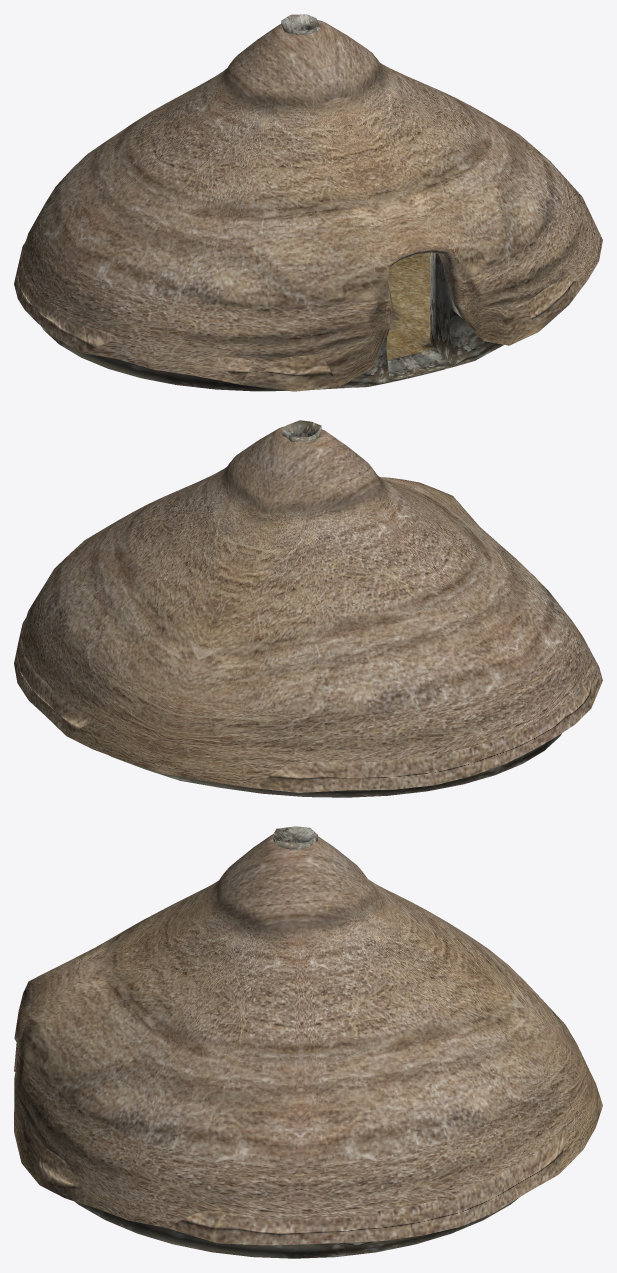
File: OldBuilding5.fbx
3 views of the same model, one above another, from view 1: azimuth 30°, elevation 25°; view 2: azimuth 150°, elevation 25°; view 3: azimuth 270°, elevation 25° (orthographic). The views are drawn at different scales.
Visible parts, largest first — view 1: vi_building11; view 2: vi_building11; view 3: vi_building11.
Boxes of the visible parts, bbox=[...] form: vi_building11: bbox=[14, 14, 602, 391]; vi_building11: bbox=[14, 420, 602, 797]; vi_building11: bbox=[14, 826, 602, 1258].
Size of the model in its own units: 1242 by 608 by 1099.
Materials: 4 (4 with a texture image).
